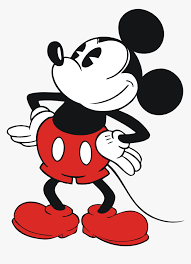mickeymouse: (8, 11, 165, 247)
